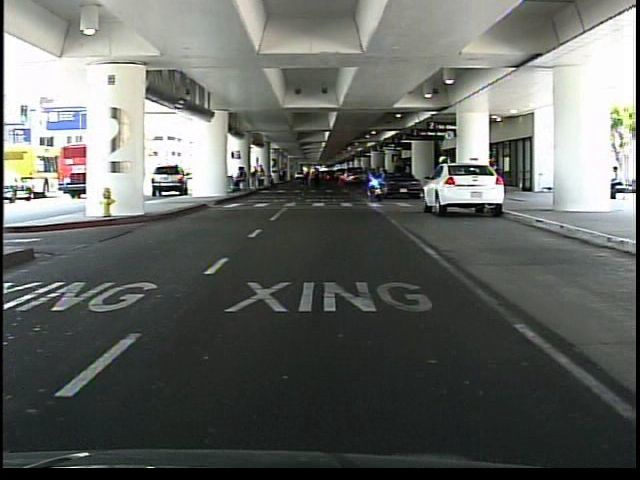person: (600, 163, 628, 201), (434, 151, 451, 210)
